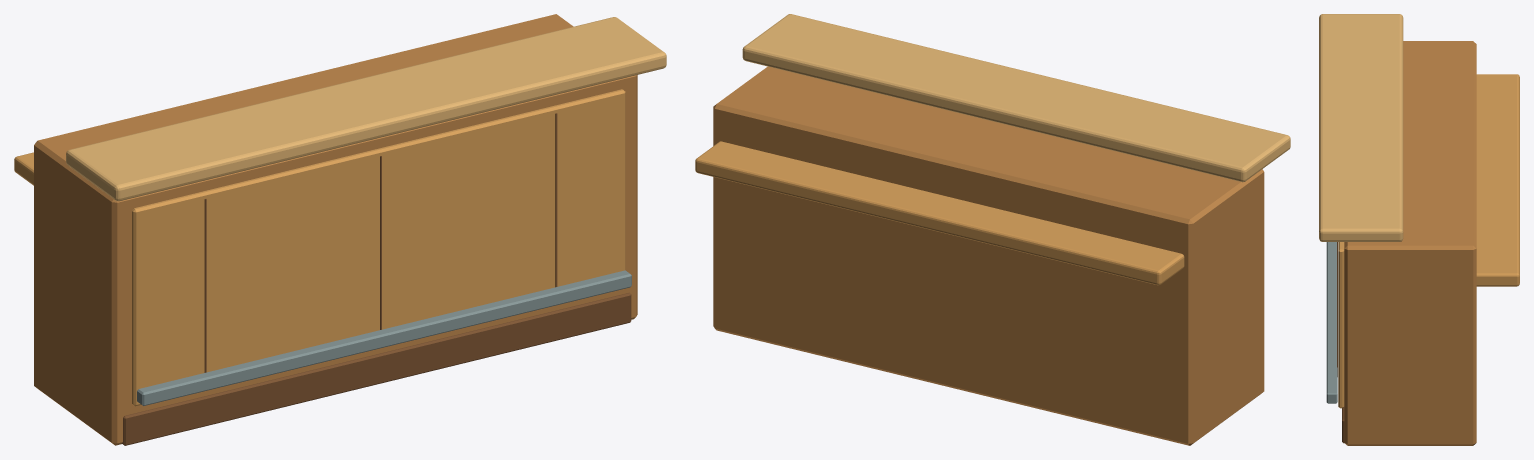
Rendered from reception_counter.glb.
The picture shows the model from 3 angles, left to right: view 1: azimuth 30°, elevation 25°; view 2: azimuth 150°, elevation 25°; view 3: azimuth 270°, elevation 25°; orthographic projection. The views are drawn at different scales.
Parts seen in each view (by area): view 1: reception_counter__oak_top, reception_counter__oak, reception_counter__oak_light, reception_counter__oak_dark, reception_counter__metal_light; view 2: reception_counter__oak, reception_counter__oak_light, reception_counter__oak_top; view 3: reception_counter__oak, reception_counter__oak_light, reception_counter__oak_top, reception_counter__metal_light, reception_counter__oak_dark.
Boxes of the visible parts, box(x1,y1,x2,y2) form: reception_counter__oak_top: box(14, 89, 625, 406); reception_counter__oak: box(34, 14, 637, 445); reception_counter__oak_light: box(66, 17, 666, 201); reception_counter__oak_dark: box(122, 113, 631, 445); reception_counter__metal_light: box(137, 270, 631, 405); reception_counter__oak: box(713, 66, 1264, 445); reception_counter__oak_light: box(742, 14, 1290, 182); reception_counter__oak_top: box(695, 141, 1184, 285); reception_counter__oak: box(1344, 41, 1476, 445); reception_counter__oak_light: box(1319, 14, 1403, 241); reception_counter__oak_top: box(1338, 74, 1519, 408); reception_counter__metal_light: box(1326, 242, 1337, 403); reception_counter__oak_dark: box(1337, 242, 1344, 443).
Bounding box in the file's own units: 2.14 × 1.02 × 0.835.
